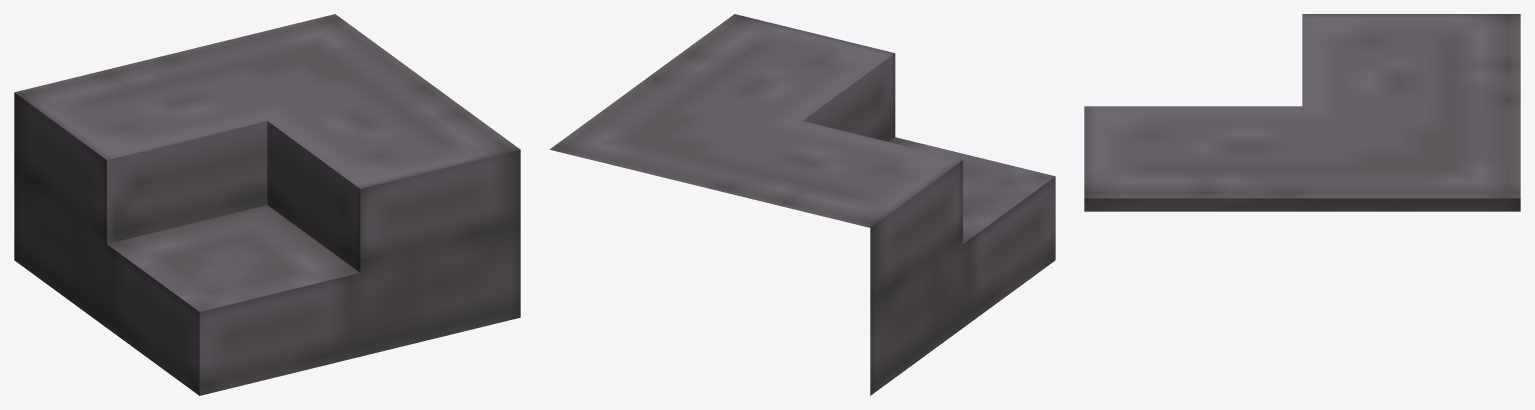
Rendered from stair_corner_concave_purple.fbx.
3 renders of one model, left to right at view 1: azimuth 30°, elevation 25°; view 2: azimuth 150°, elevation 25°; view 3: azimuth 270°, elevation 25°, orthographic. The views are drawn at different scales.
Visible parts, largest first — view 1: stair_corner_concave_purple; view 2: stair_corner_concave_purple; view 3: stair_corner_concave_purple.
Boxes of the visible parts, x1,y1,x2,y2 form: stair_corner_concave_purple: [14, 14, 520, 395]; stair_corner_concave_purple: [550, 14, 1055, 395]; stair_corner_concave_purple: [1084, 14, 1520, 211].
Size of the model in its own units: 16 by 8 by 16.
